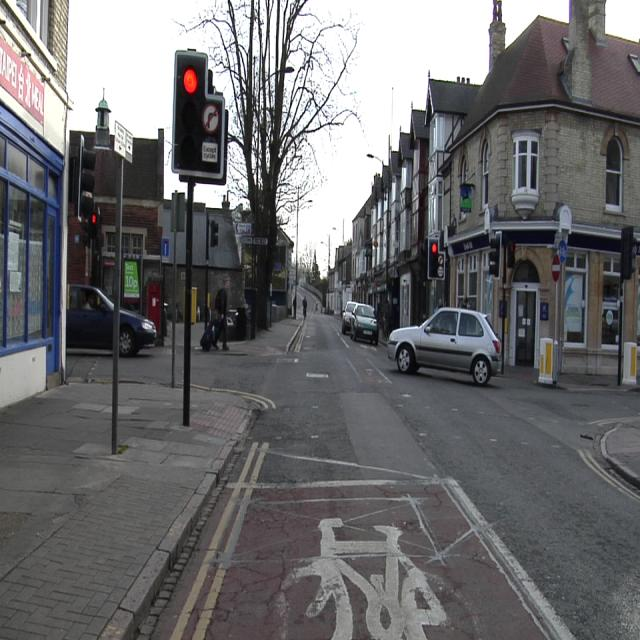Building: (333, 0, 639, 374), (1, 2, 115, 406), (124, 132, 163, 339)
Car: (389, 308, 500, 382), (67, 285, 112, 349), (119, 310, 155, 355), (352, 304, 378, 343)
Road: (137, 312, 637, 639)
Tree: (176, 2, 361, 326)
